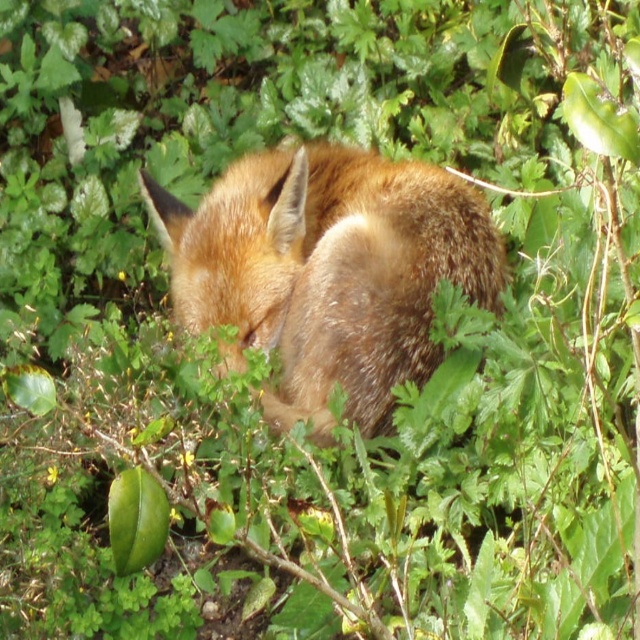Fox: (136, 134, 513, 453)
